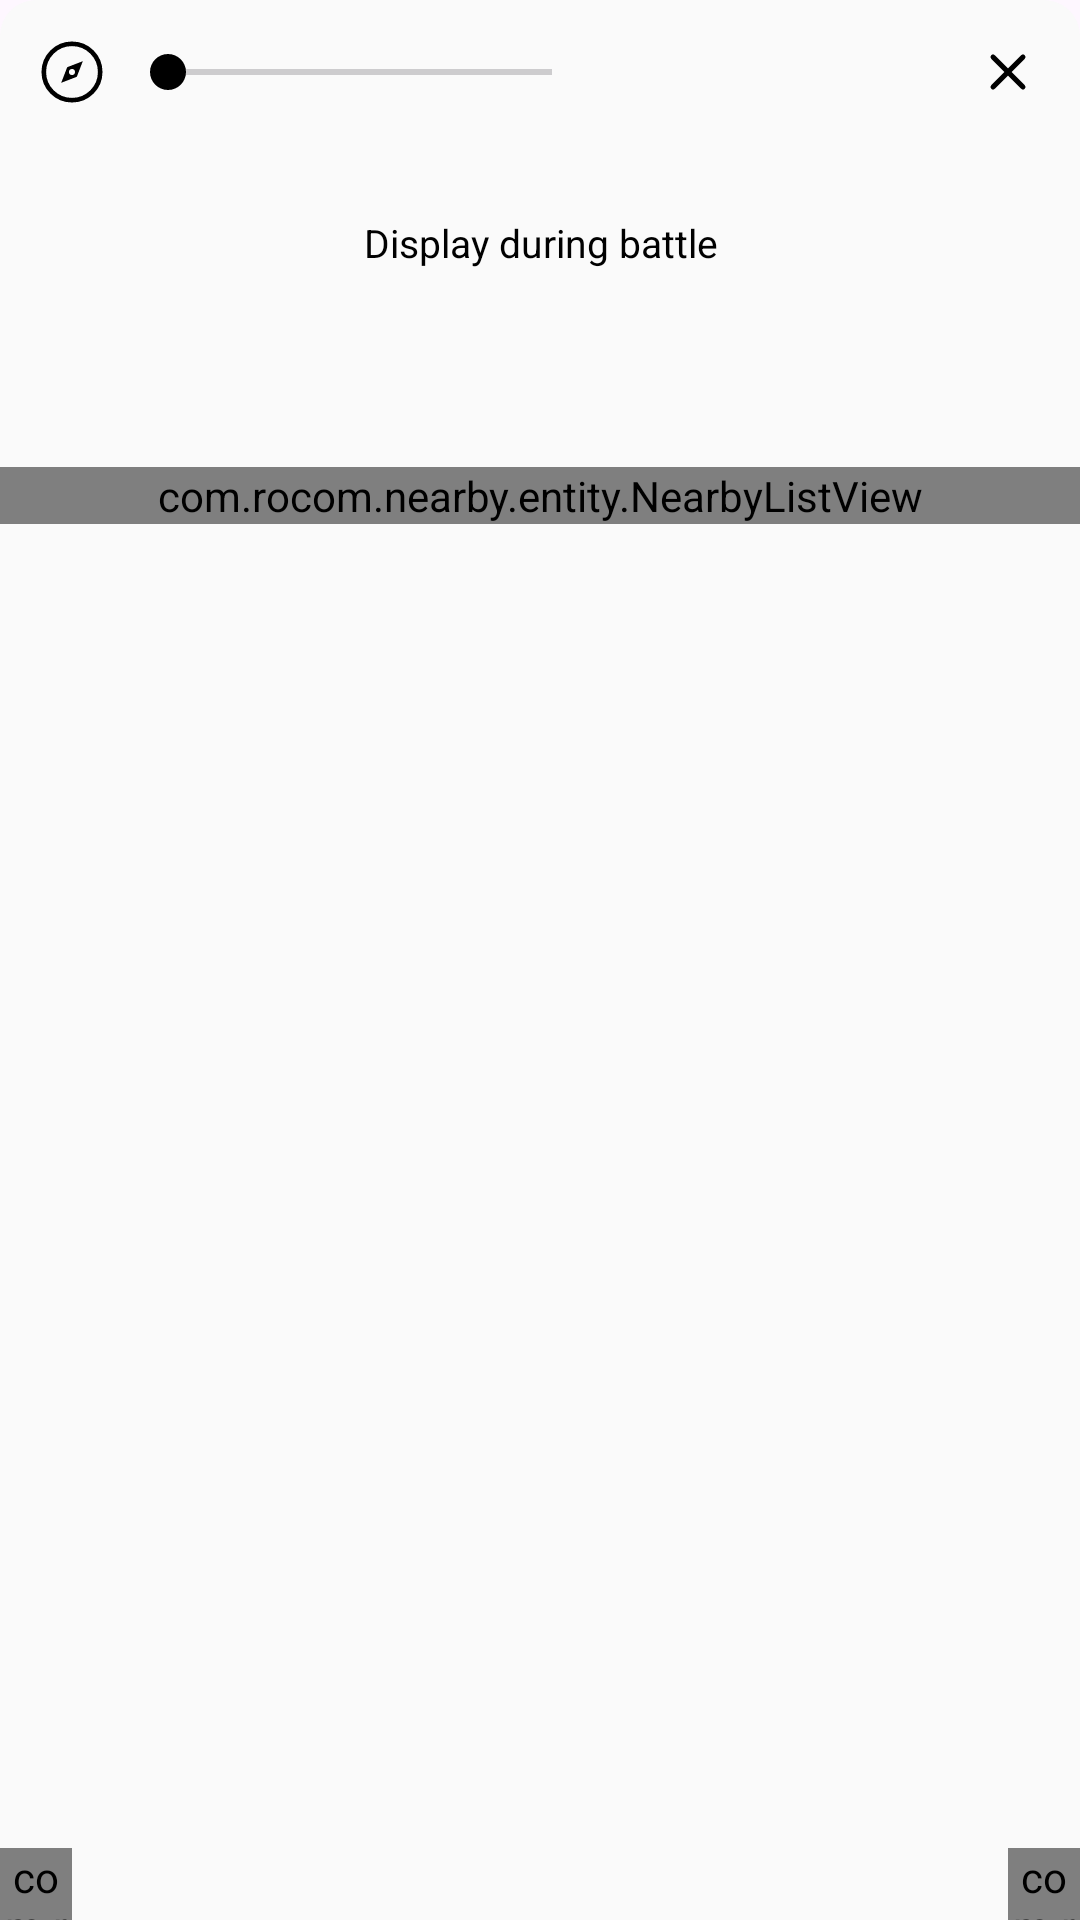

Named icons in this screenshot (1080*1920) and their bounding boxes, [x1=x1, y1=y1, x2=x2, y2=y2]:
close: [x1=990, y1=54, x2=1026, y2=90]
compass: [x1=41, y1=41, x2=103, y2=103]
